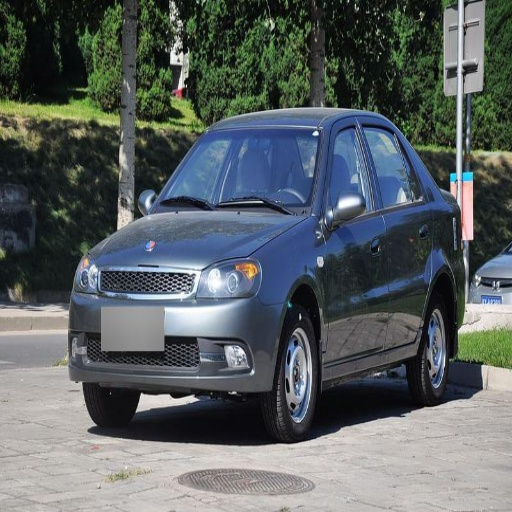front_bumper: (69, 256, 284, 390)
front_glass: (154, 126, 323, 212)
front_left_door: (327, 121, 386, 363)
